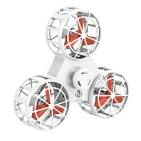fidget_spinner: (12, 1, 135, 128)
